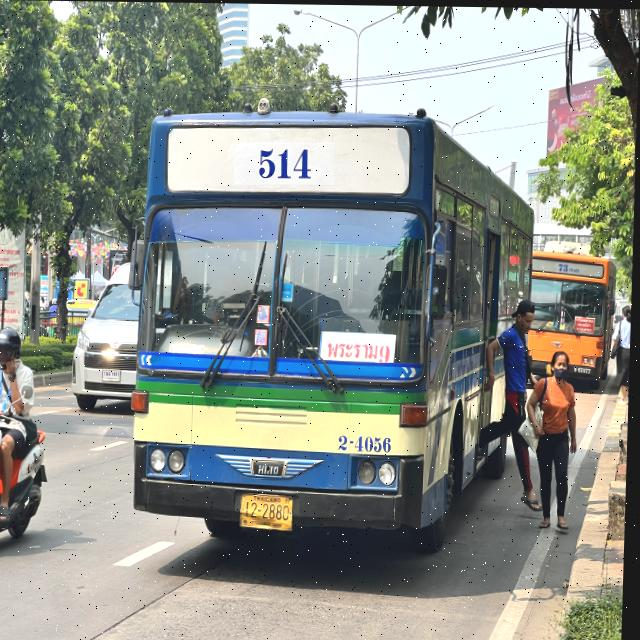BMTA-bus: (121, 88, 543, 565), (531, 236, 621, 390)
Bus-Line-Number: (233, 143, 336, 183), (558, 259, 583, 273)
Destination-Sign-Extra-Bus: (321, 329, 398, 361), (576, 314, 596, 332)
